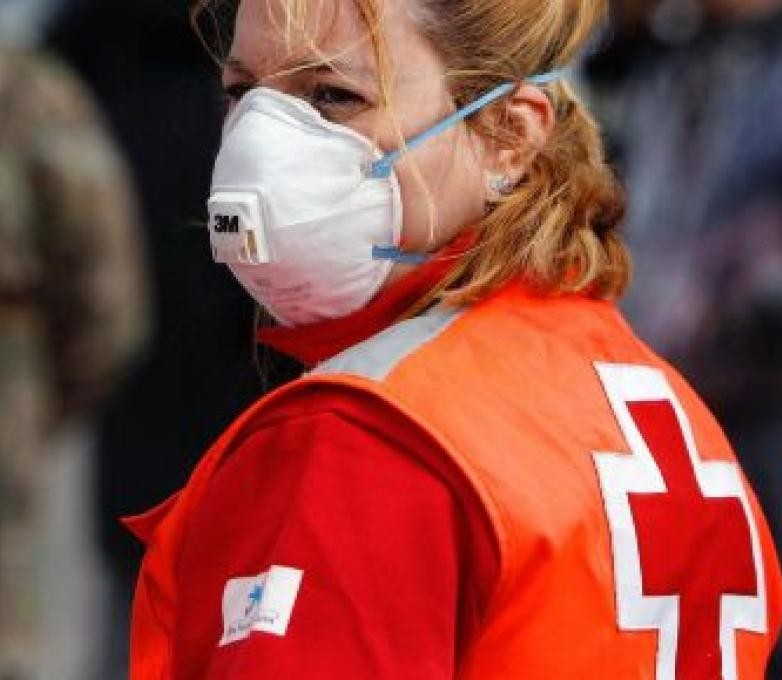with_mask: (203, 6, 580, 335)
